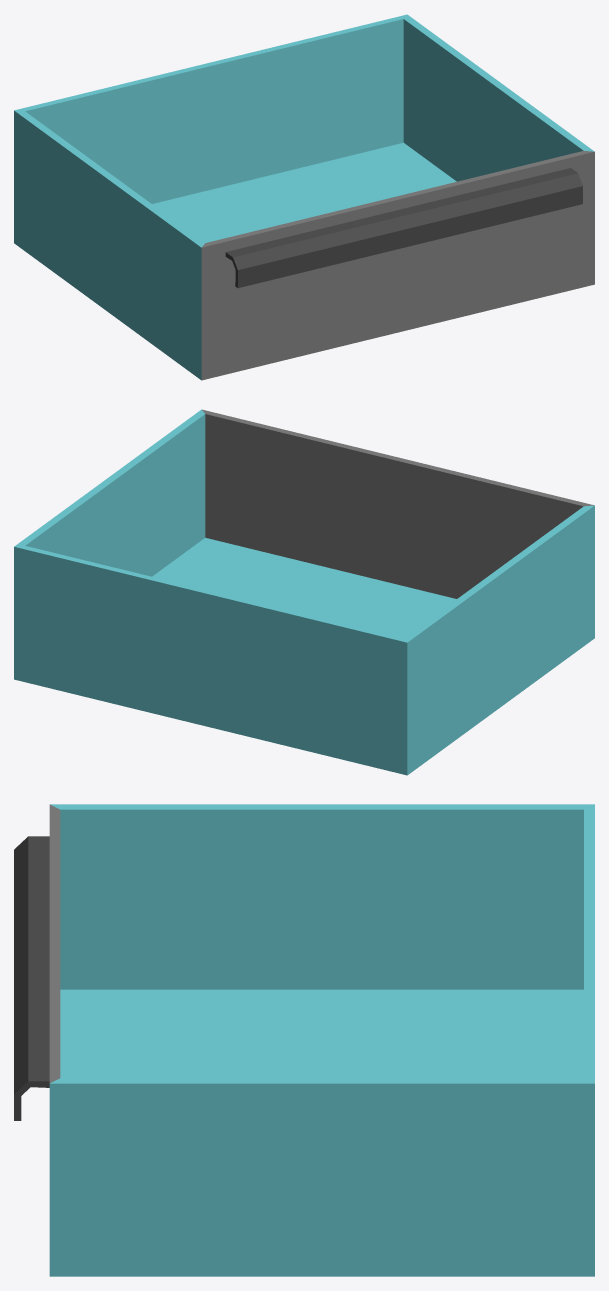
The model's file is Refrigerador_Cajon01.fbx.
3 renders of one model, top to bottom at view 1: azimuth 30°, elevation 25°; view 2: azimuth 150°, elevation 25°; view 3: azimuth 270°, elevation 25°, orthographic. The views are drawn at different scales.
Visible parts, largest first — view 1: Refrigerador_Cajon01; view 2: Refrigerador_Cajon01; view 3: Refrigerador_Cajon01.
Boxes of the visible parts, box(x1,y1,x2,y2) form: Refrigerador_Cajon01: box(14, 14, 594, 380); Refrigerador_Cajon01: box(14, 409, 594, 775); Refrigerador_Cajon01: box(14, 804, 594, 1276).
Bounding box in the file's own units: 41.82 × 13.49 × 36.78.
